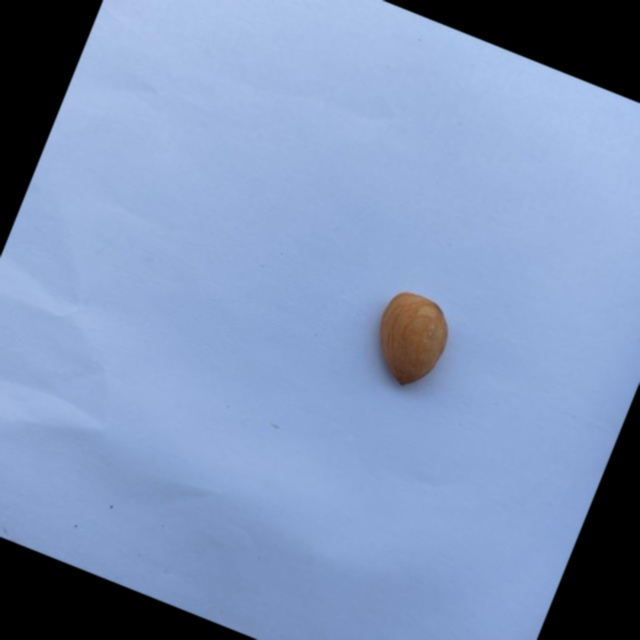grade2: (354, 280, 464, 399)
